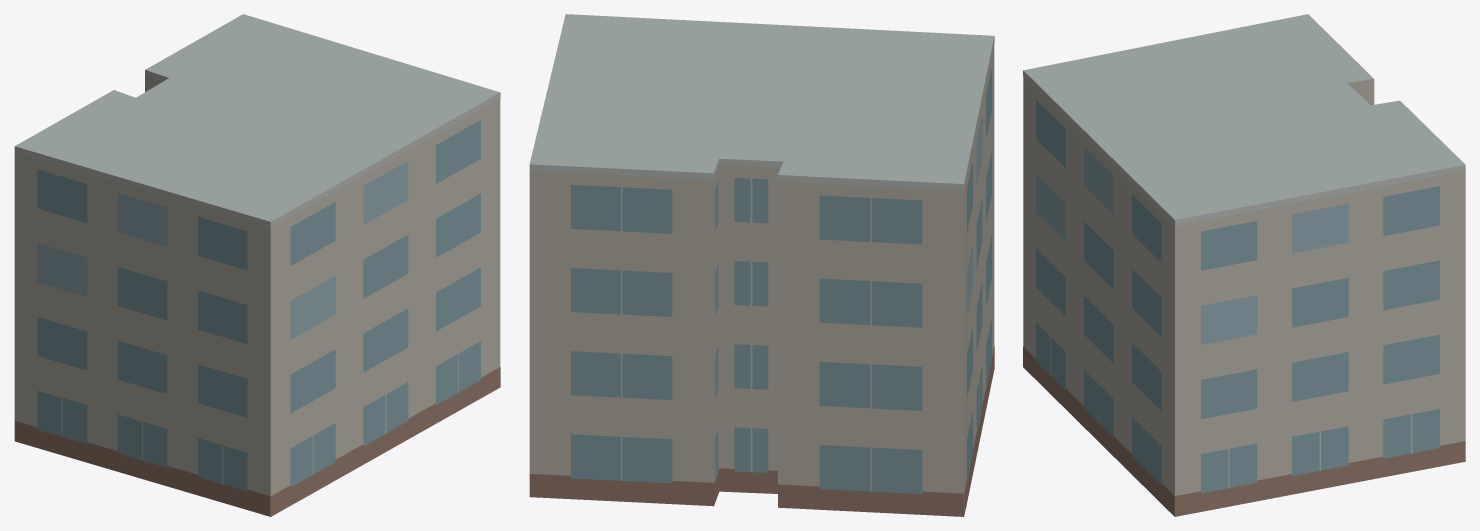
The model's file is survey-upis-32593822.glb.
3 renders of one model, left to right at view 1: azimuth 30°, elevation 25°; view 2: azimuth 150°, elevation 25°; view 3: azimuth 270°, elevation 25°, orthographic. The views are drawn at different scales.
Visible parts, largest first — view 1: survey-upis-32593822.tmp; view 2: survey-upis-32593822.tmp; view 3: survey-upis-32593822.tmp.
Part boxes in pixels (x1,y1,x2,y2): survey-upis-32593822.tmp: (14,14,500,516); survey-upis-32593822.tmp: (529,14,994,516); survey-upis-32593822.tmp: (1023,14,1465,516).
Bounding box in the file's own units: 18.17 × 12.2 × 16.49.
